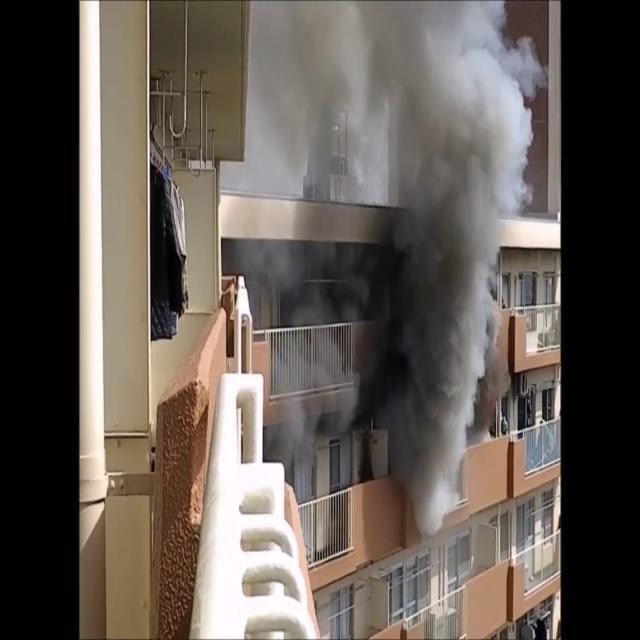Smoke: (250, 2, 524, 510)
